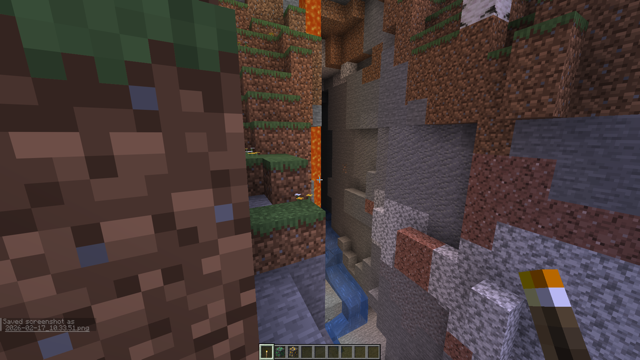iron: (341, 162, 347, 176)
